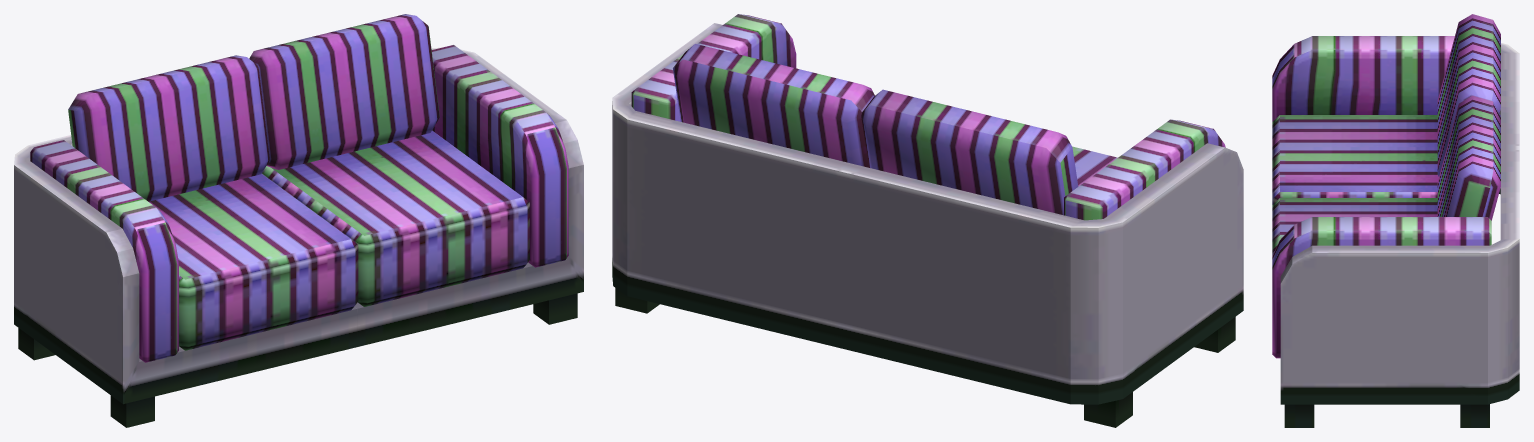
File: furni_0200612_02.FBX
The picture shows the model from 3 angles, left to right: view 1: azimuth 30°, elevation 25°; view 2: azimuth 150°, elevation 25°; view 3: azimuth 270°, elevation 25°; orthographic projection. The views are drawn at different scales.
Visible parts, largest first — view 1: furni_0200612_02; view 2: furni_0200612_02; view 3: furni_0200612_02.
Part boxes in pixels (x1,y1,x2,y2): furni_0200612_02: (14, 14, 583, 427); furni_0200612_02: (612, 14, 1243, 427); furni_0200612_02: (1272, 14, 1519, 427).
Size of the model in its own units: 159 by 80.62 by 77.55.
1 material, 1 textured.
